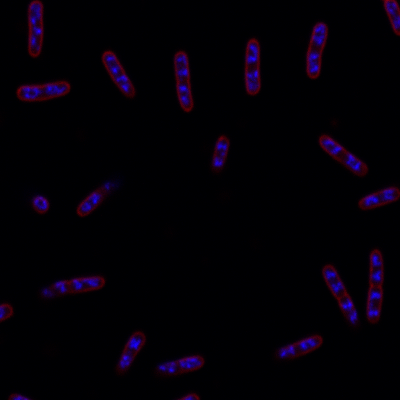Control: (317, 133, 370, 176), (99, 50, 138, 99), (361, 247, 385, 326), (304, 18, 330, 81), (172, 49, 194, 113), (355, 184, 400, 213), (25, 0, 47, 58), (242, 38, 263, 97), (15, 81, 73, 102)
Oblique: (320, 262, 361, 327), (73, 175, 123, 217), (33, 273, 107, 300), (115, 329, 148, 375), (274, 333, 324, 362), (153, 353, 204, 378), (210, 130, 230, 171), (26, 190, 50, 214)
